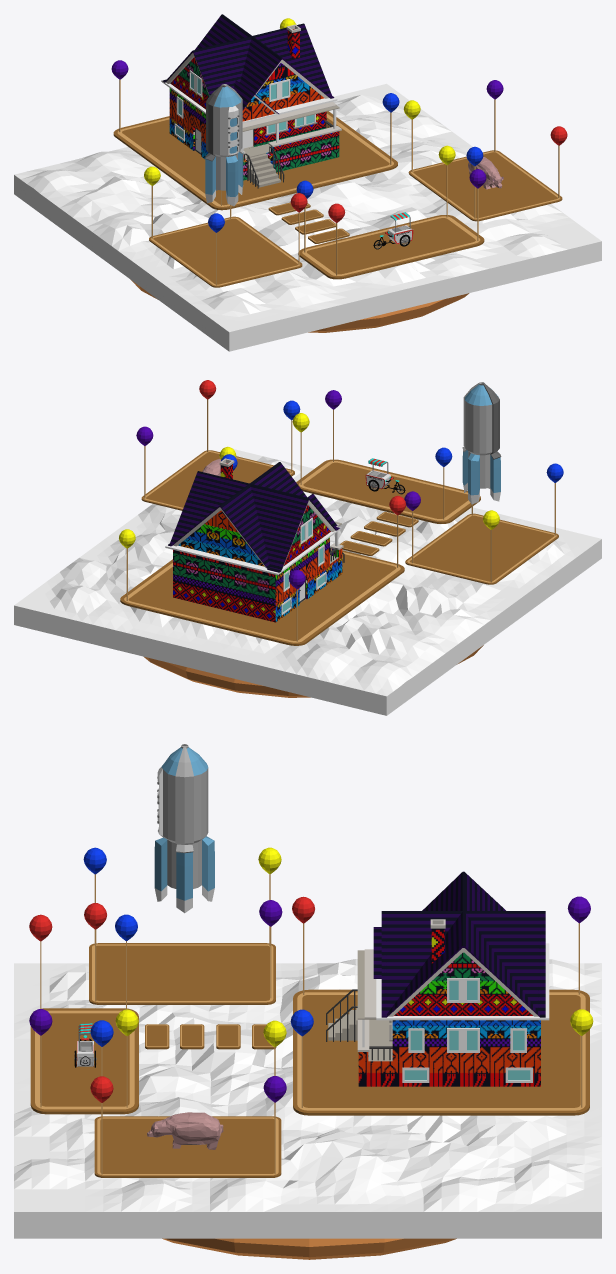
3 views of the same model, one above another, from view 1: azimuth 30°, elevation 25°; view 2: azimuth 150°, elevation 25°; view 3: azimuth 270°, elevation 25° (orthographic). The views are drawn at different scales.
Parts seen in each view (by area): view 1: Cube.013, Cube.966, OBJRANDOM_ROCKETSHIP, UNDERGROUND_PIZZA, VEHICLES_SNOWBAL_BIKE, ANIMAL_HIPOPOTAMO; view 2: Cube.013, Cube.966, OBJRANDOM_ROCKETSHIP, UNDERGROUND_PIZZA, VEHICLES_SNOWBAL_BIKE; view 3: Cube.013, Cube.966, OBJRANDOM_ROCKETSHIP, UNDERGROUND_PIZZA, ANIMAL_HIPOPOTAMO, VEHICLES_SNOWBAL_BIKE.
Part boxes in pixels (x1,y1,x2,y2): Cube.013: (14, 18, 601, 351); Cube.966: (161, 14, 341, 188); OBJRANDOM_ROCKETSHIP: (205, 84, 243, 206); UNDERGROUND_PIZZA: (130, 279, 469, 332); VEHICLES_SNOWBAL_BIKE: (373, 212, 413, 249); ANIMAL_HIPOPOTAMO: (468, 157, 503, 189); Cube.013: (14, 380, 601, 715); Cube.966: (165, 458, 344, 622); OBJRANDOM_ROCKETSHIP: (462, 382, 501, 504); UNDERGROUND_PIZZA: (144, 645, 483, 697); VEHICLES_SNOWBAL_BIKE: (365, 458, 405, 494); Cube.013: (14, 847, 601, 1238); Cube.966: (326, 871, 549, 1086); OBJRANDOM_ROCKETSHIP: (154, 744, 214, 913); UNDERGROUND_PIZZA: (162, 1238, 456, 1259); ANIMAL_HIPOPOTAMO: (147, 1112, 223, 1149); VEHICLES_SNOWBAL_BIKE: (74, 1023, 96, 1067).
Size of the model in its own units: 4000 by 2413 by 4000.
Materials: 43 (5 with a texture image).
